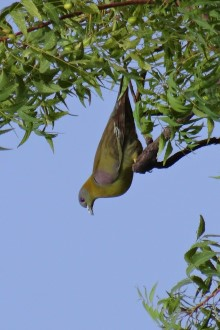pigeon: (74, 81, 146, 218)
